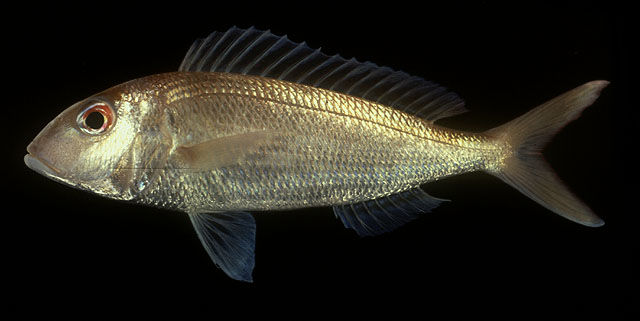fish: (23, 26, 612, 283)
